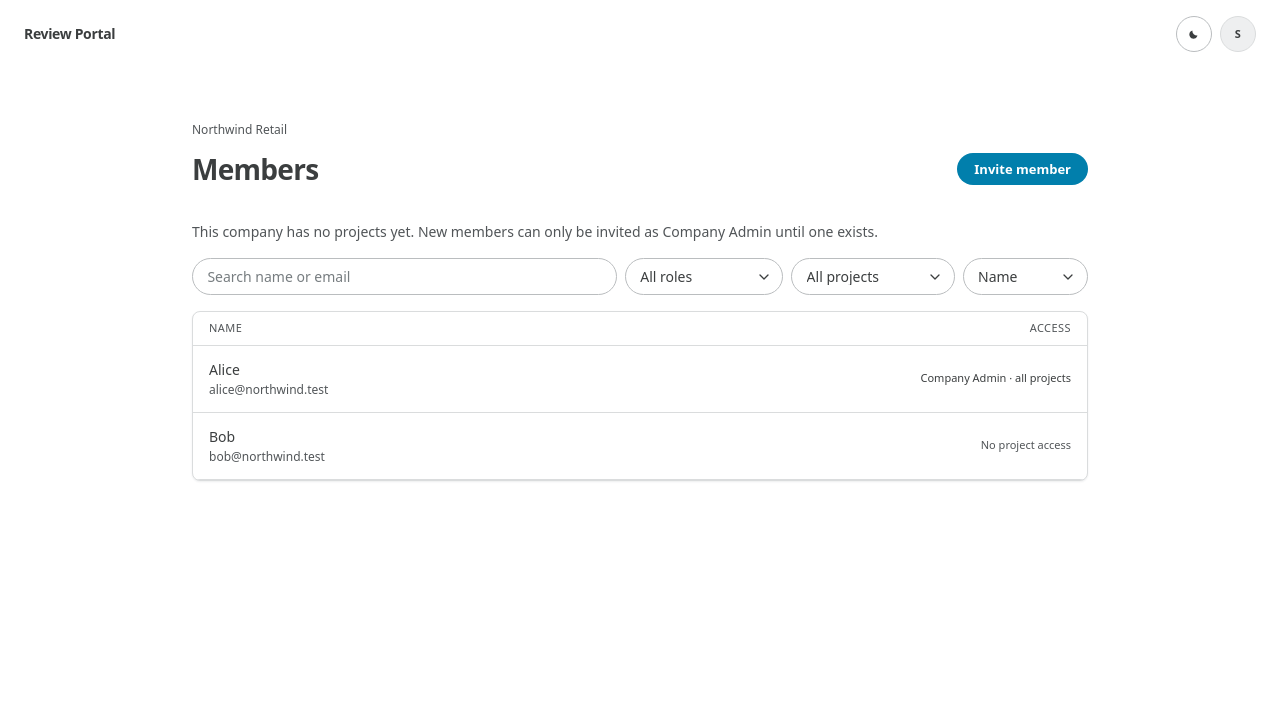
Test: deliverable viewer and members › does not flash stale member data when navigating to a different member (I1)
Expected: the heading "Members" is shown, left=192, top=148, right=318, bottom=190
Navigate to Alice (m1)
Click the link "Alice alice@northwind.test Company Admin · all projects" at (224, 369), box left=193, top=346, right=1087, bottom=413
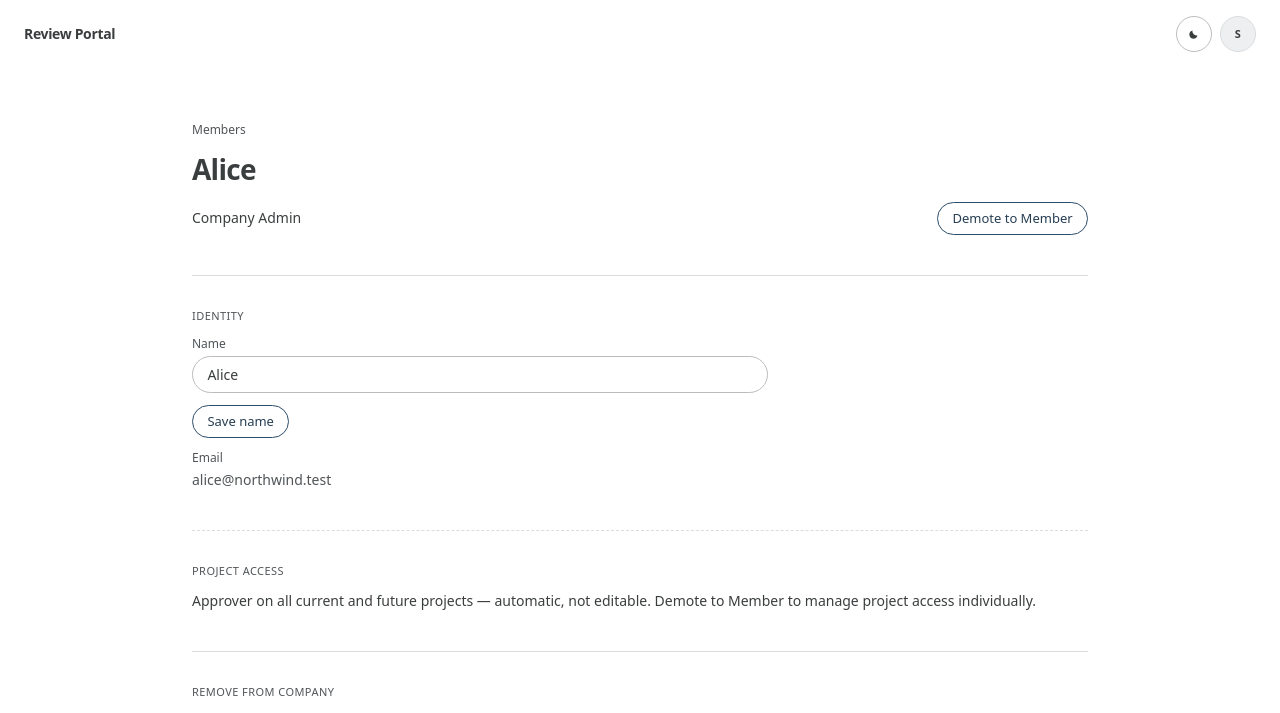
Expected: the heading "Alice" is shown, left=192, top=148, right=256, bottom=190
Navigate back to directory, then to Bob (m2) — m2 fetch is stalled
Click the link "Members" at (219, 130), box left=192, top=121, right=246, bottom=138
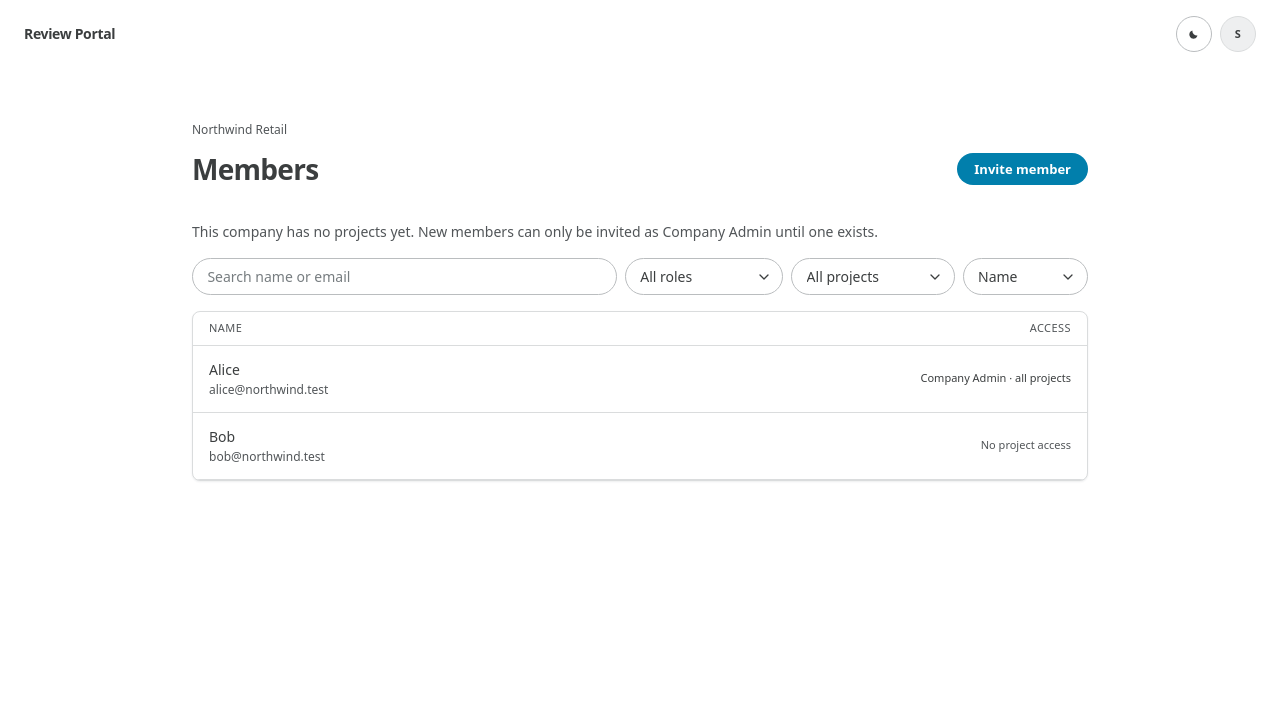
Expected: the heading "Members" is shown, left=192, top=148, right=318, bottom=190
Click the link "Bob bob@northwind.test No project access" at (267, 456), box left=193, top=413, right=1087, bottom=480
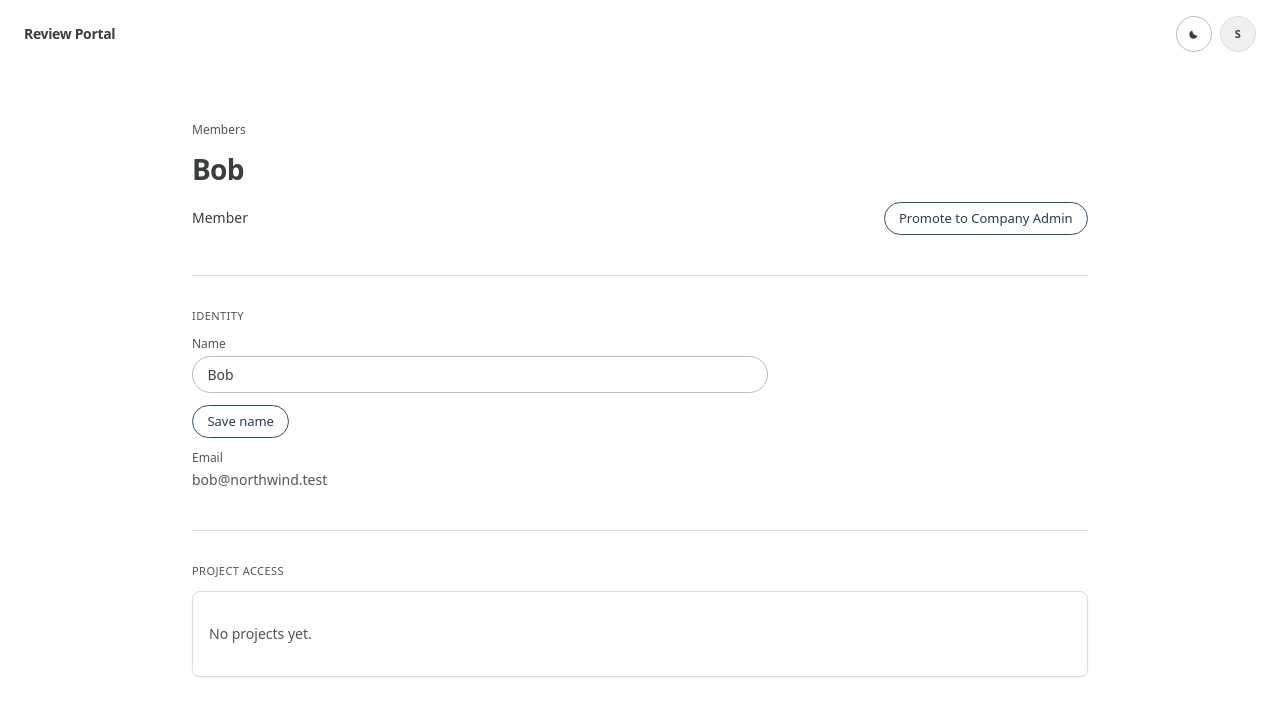
Expected: the link "Alice" is gone
Expected: the heading "Bob" is shown, left=192, top=148, right=244, bottom=190
